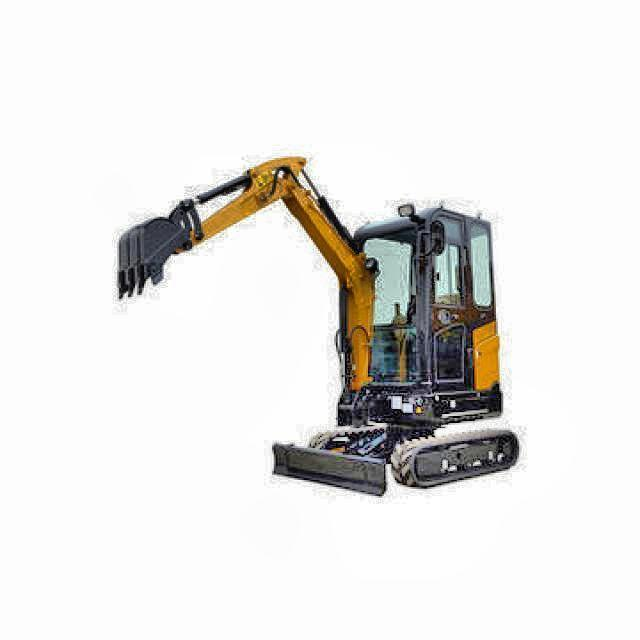excavator: (112, 153, 521, 502)
